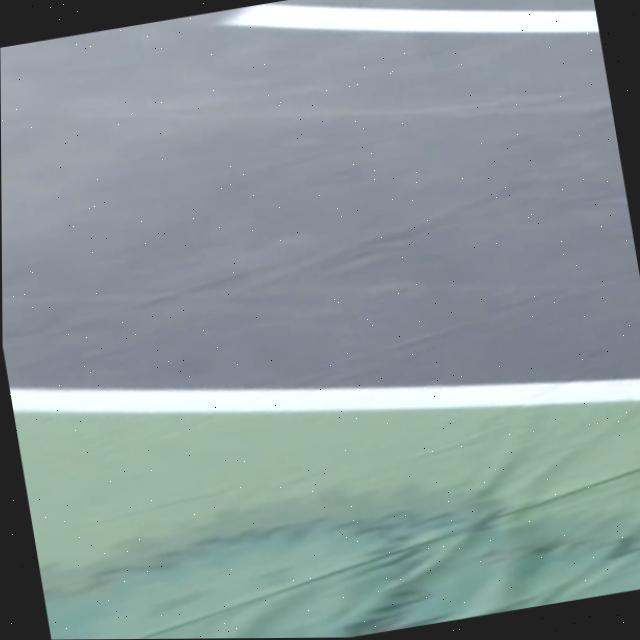center: (221, 2, 599, 30)
right: (9, 377, 640, 412)
